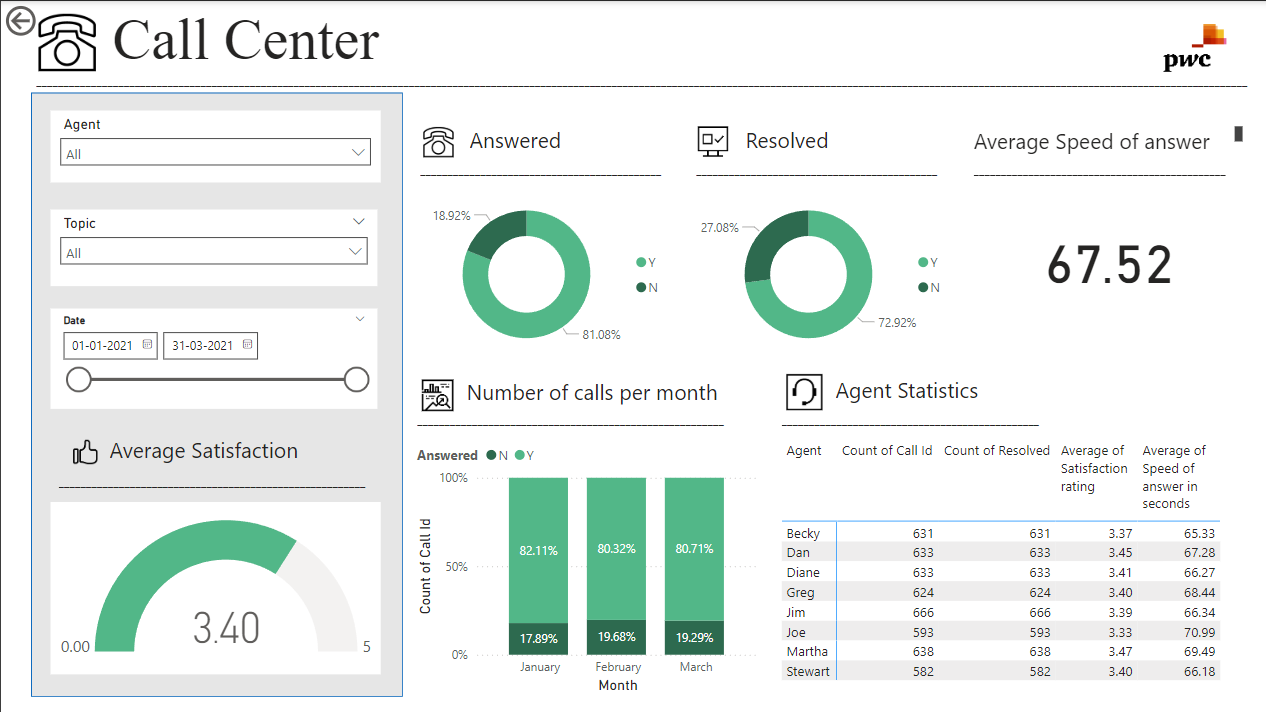

What the dashboard file says about the page in this screenshot:
{"tool":"powerbi","page":{"name":"Page 1","canvas":[1280,720],"ordinal":0},"visuals":[{"type":"textbox","box":[107.5,0,292.2,80.3],"z":0},{"type":"textbox","box":[30.3,65.1,1249.2,54.5],"z":1000},{"type":"textbox","box":[467.9,119.6,130.2,40.9],"z":2000},{"type":"textbox","box":[746.5,119.6,104.5,43.9],"z":3000},{"type":"donutChart","fields":{"Y":["Sheet1.Answered (Y/N)"],"Category":["Sheet1.Answered (Y/N)"]},"box":[414.9,177.2,263.5,196.8],"z":4000},{"type":"textbox","box":[417.9,154.4,263.5,30.3],"z":5000},{"type":"textbox","box":[696.5,154.4,263.5,30.3],"z":6000},{"type":"donutChart","fields":{"Category":["Sheet1.Resolved"],"Y":["Sheet1.Resolved"]},"box":[699.6,177.2,263.5,196.8],"z":7000},{"type":"textbox","box":[976.7,121.1,281.6,39.4],"z":8000},{"type":"shape","box":[30.3,92.4,375.5,610.2],"z":9000},{"type":"textbox","box":[977.4,154.7,281.1,30],"z":10000},{"type":"card","fields":{"Values":["Sheet1.Speed of answer in seconds"]},"box":[1034.2,199.9,168.1,116.6],"z":11000},{"type":"textbox","box":[464.9,374,277.1,42.4],"z":12000},{"type":"textbox","box":[836.9,372.6,173.7,42.6],"z":13000},{"type":"textbox","box":[414.9,407.3,331.6,30.3],"z":14000},{"type":"textbox","box":[782.8,407.3,278.6,30.3],"z":15000},{"type":"hundredPercentStackedColumnChart","fields":{"Category":["Sheet1.Date.Variation.Date Hierarchy.Month"],"Y":["Sheet1.Call Id"],"Series":["Sheet1.Answered (Y/N)"]},"box":[414.9,437.6,354.3,265],"z":16000},{"type":"image","box":[31.8,7.6,69.7,68.1],"z":17000},{"type":"image","box":[1129,0,151,94.5],"z":18000},{"type":"image","box":[420.9,121.1,40.9,42.4],"z":19000},{"type":"image","box":[698,110.5,40.9,62.1],"z":20000},{"type":"image","box":[787.4,366.4,46.9,56],"z":21000},{"type":"image","box":[419.4,363.4,42.4,69.7],"z":22000},{"type":"pivotTable","fields":{"Rows":["Sheet1.Agent"],"Values":["Sheet1.Call Id","Sheet1.Resolved","Sheet1.Satisfaction rating","Sheet1.Speed of answer in seconds"]},"box":[782.8,437.6,475.5,265],"z":23000},{"type":"actionButton","box":[0,0,100,40],"z":24000},{"type":"gauge","fields":{"Y":["Sheet1.Satisfaction rating"],"MaxValue":["Sheet1.Satisfaction rating"]},"box":[50.5,505.3,333.2,173.7],"z":25000},{"type":"textbox","box":[104.2,432.6,210,41.1],"z":25001},{"type":"textbox","box":[53.7,469,330,30],"z":25002},{"type":"image","box":[61.6,437.4,45.8,34.7],"z":25003},{"type":"slicer","fields":{"Values":["Sheet1.Agent"]},"box":[50.5,110.5,333.2,72.6],"z":25004},{"type":"slicer","fields":{"Values":["Sheet1.Topic"]},"box":[50.5,210,330,77.4],"z":25005},{"type":"slicer","fields":{"Values":["Sheet1.Date"]},"box":[50.5,311.1,330,101.1],"z":25006}]}

Visuals, with their boxes in screenshot pixels (x1, y1, x2, y2), scaled from the page's 1280x720 canvas onto the 1266x712 screenshot:
textbox: rect(106, 0, 395, 79)
textbox: rect(30, 64, 1265, 118)
textbox: rect(463, 118, 592, 159)
textbox: rect(738, 118, 842, 162)
donutChart - Sheet1.Answered (Y/N) x Sheet1.Answered (Y/N): rect(410, 175, 671, 370)
textbox: rect(413, 153, 674, 183)
textbox: rect(689, 153, 950, 183)
donutChart - Sheet1.Resolved x Sheet1.Resolved: rect(692, 175, 953, 370)
textbox: rect(966, 120, 1245, 159)
shape: rect(30, 91, 401, 695)
textbox: rect(967, 153, 1245, 183)
card - Sheet1.Speed of answer in seconds: rect(1023, 198, 1189, 313)
textbox: rect(460, 370, 734, 412)
textbox: rect(828, 368, 1000, 411)
textbox: rect(410, 403, 738, 433)
textbox: rect(774, 403, 1050, 433)
hundredPercentStackedColumnChart - Sheet1.Date.Variation.Date Hierarchy.Month x Sheet1.Call Id: rect(410, 433, 761, 695)
image: rect(31, 8, 100, 75)
image: rect(1117, 0, 1265, 93)
image: rect(416, 120, 457, 162)
image: rect(690, 109, 731, 171)
image: rect(779, 362, 825, 418)
image: rect(415, 359, 457, 428)
pivotTable - Sheet1.Agent x Sheet1.Call Id: rect(774, 433, 1245, 695)
actionButton: rect(0, 0, 99, 40)
gauge - Sheet1.Satisfaction rating x Sheet1.Satisfaction rating: rect(50, 500, 380, 671)
textbox: rect(103, 428, 311, 468)
textbox: rect(53, 464, 380, 493)
image: rect(61, 433, 106, 467)
slicer - Sheet1.Agent: rect(50, 109, 380, 181)
slicer - Sheet1.Topic: rect(50, 208, 376, 284)
slicer - Sheet1.Date: rect(50, 308, 376, 408)
